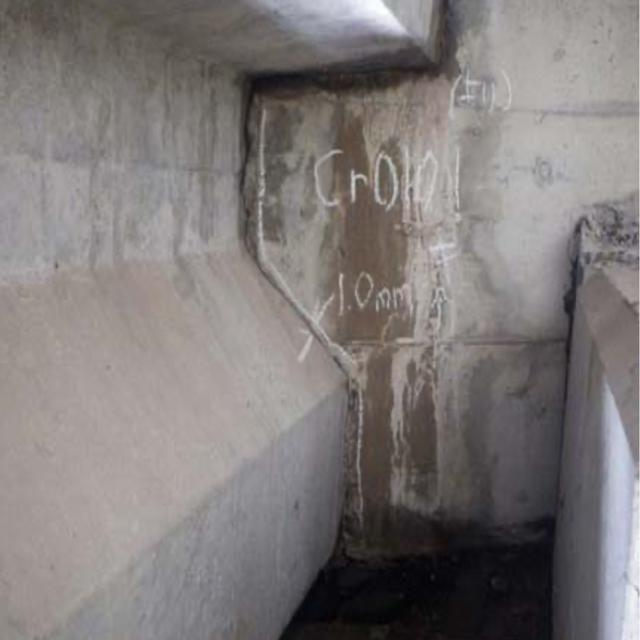leakage: (234, 37, 467, 100)
